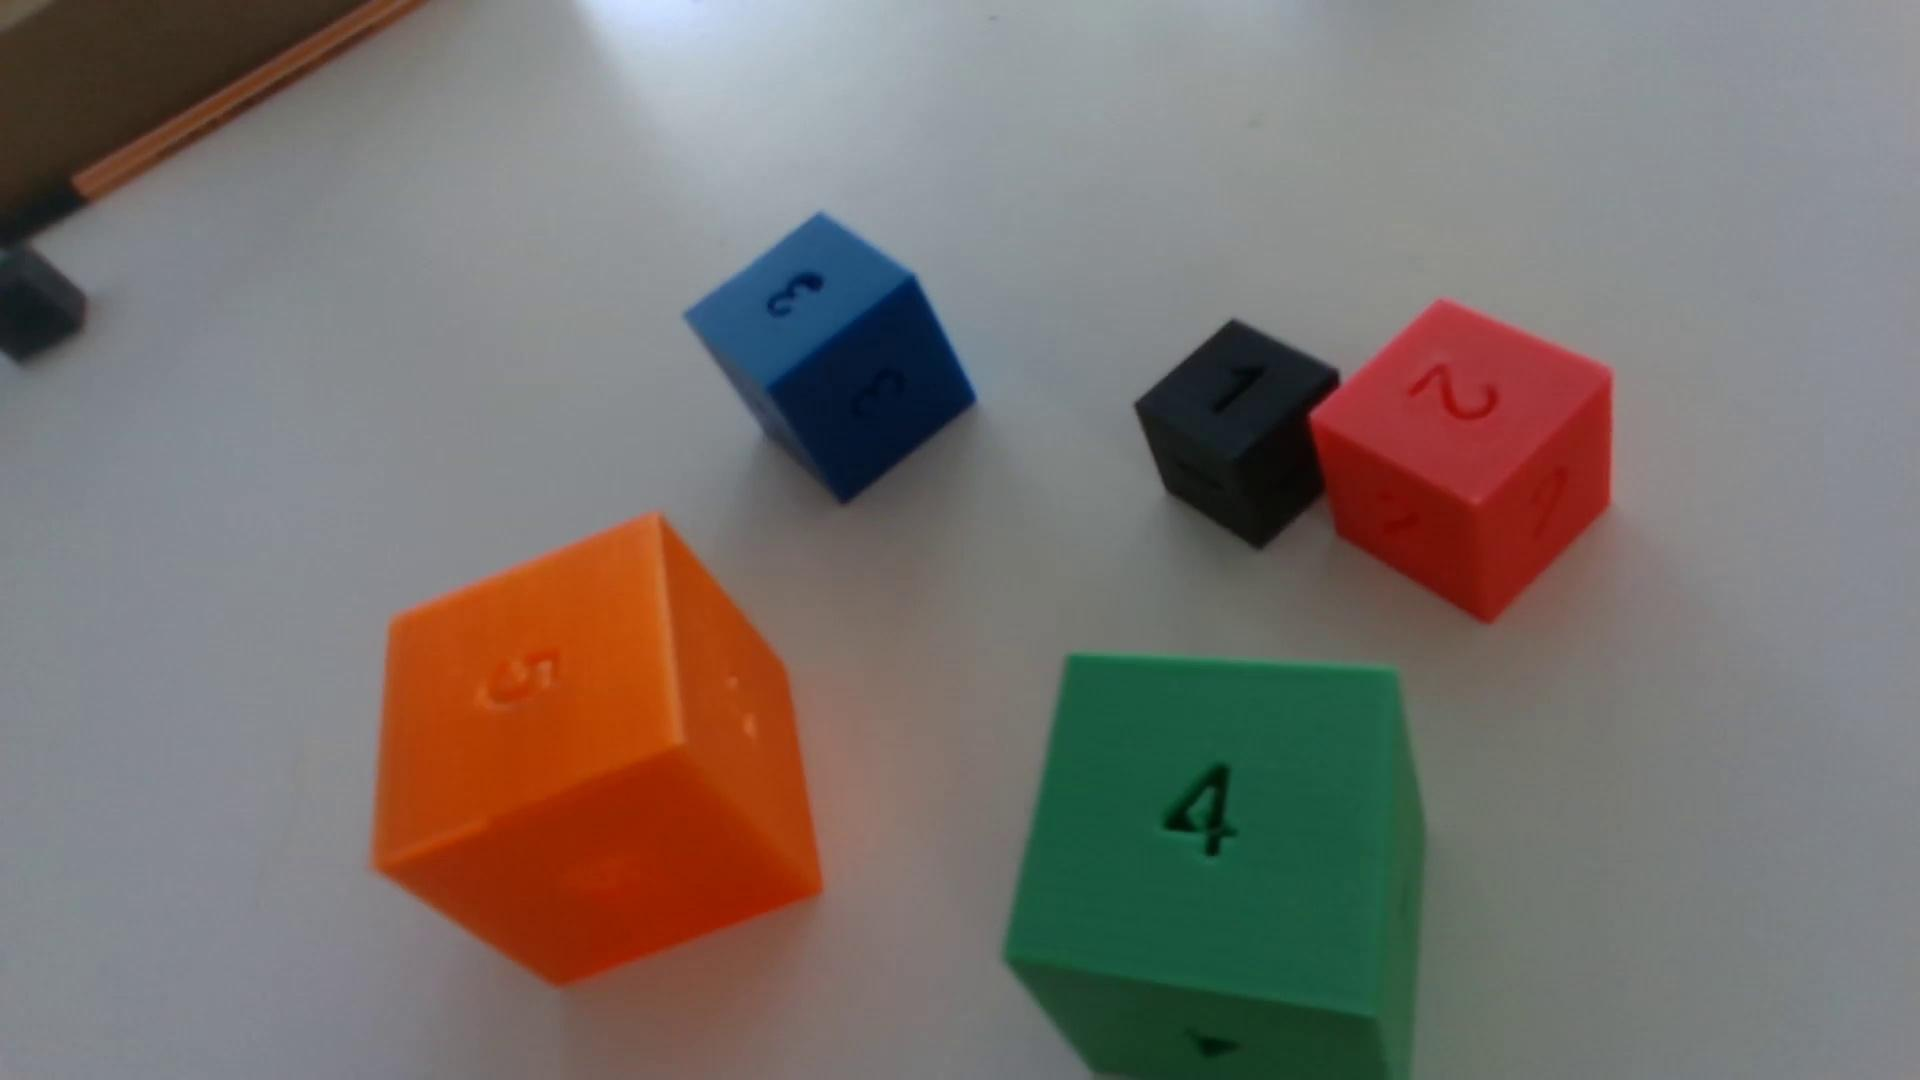black: (1135, 320, 1340, 549)
blue: (684, 215, 975, 504)
green: (1004, 655, 1425, 1080)
orange: (371, 516, 822, 986)
red: (1311, 302, 1613, 624)
